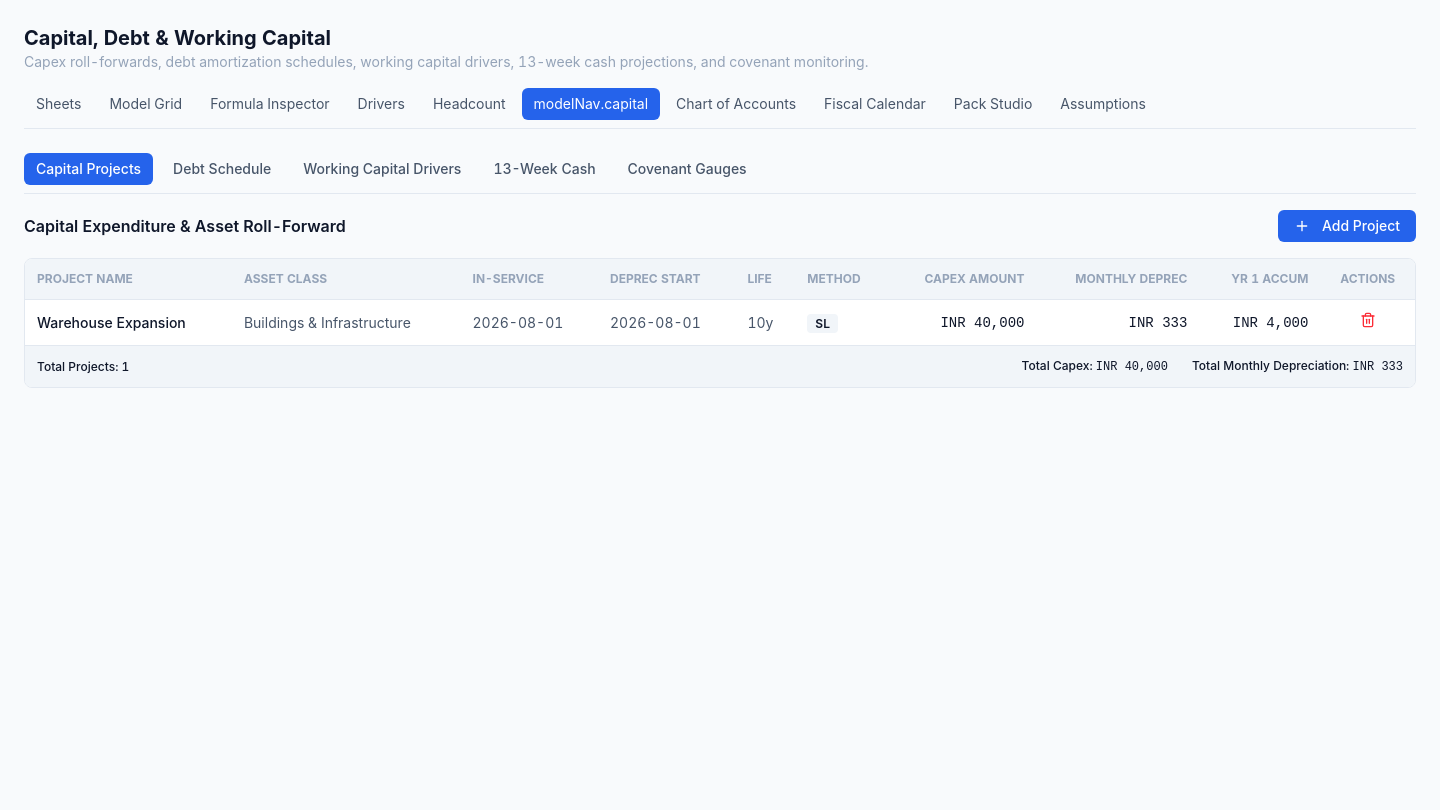
Test: S-046 Capital, Debt & Working Capital screen (F-017 · M3-7) › switches to 13-Week Cash flow rolling schedule
Click the tab "13-Week Cash" at x=544, y=169, box [481,153,608,185]
(page scrolled)
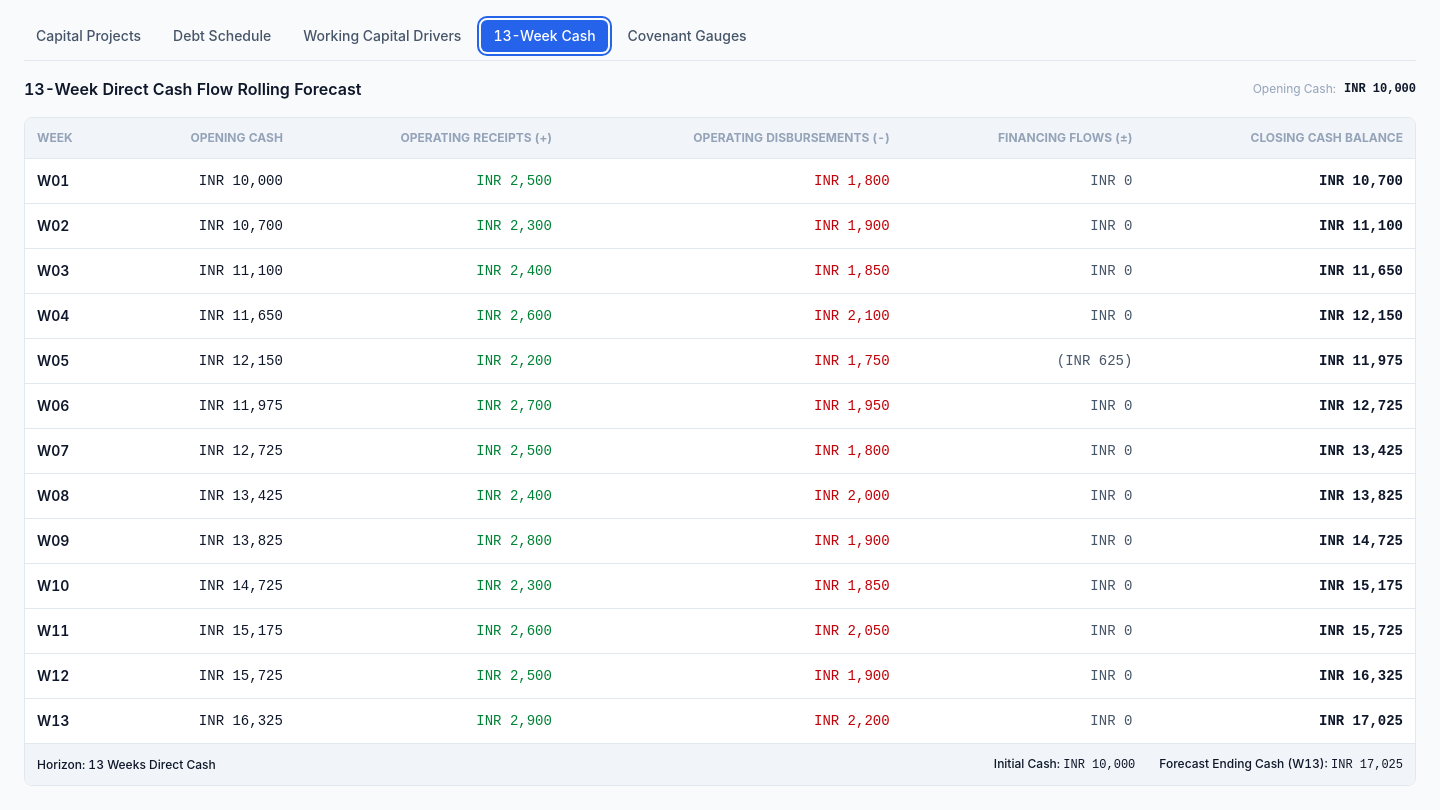
Now the heading "13-Week Direct Cash Flow Rolling Forecast" is shown, box [24,77,361,101]
Now the table named "13-Week Cash Schedule Table" is shown
Now the text "W01" is shown, box [25,158,116,204]
